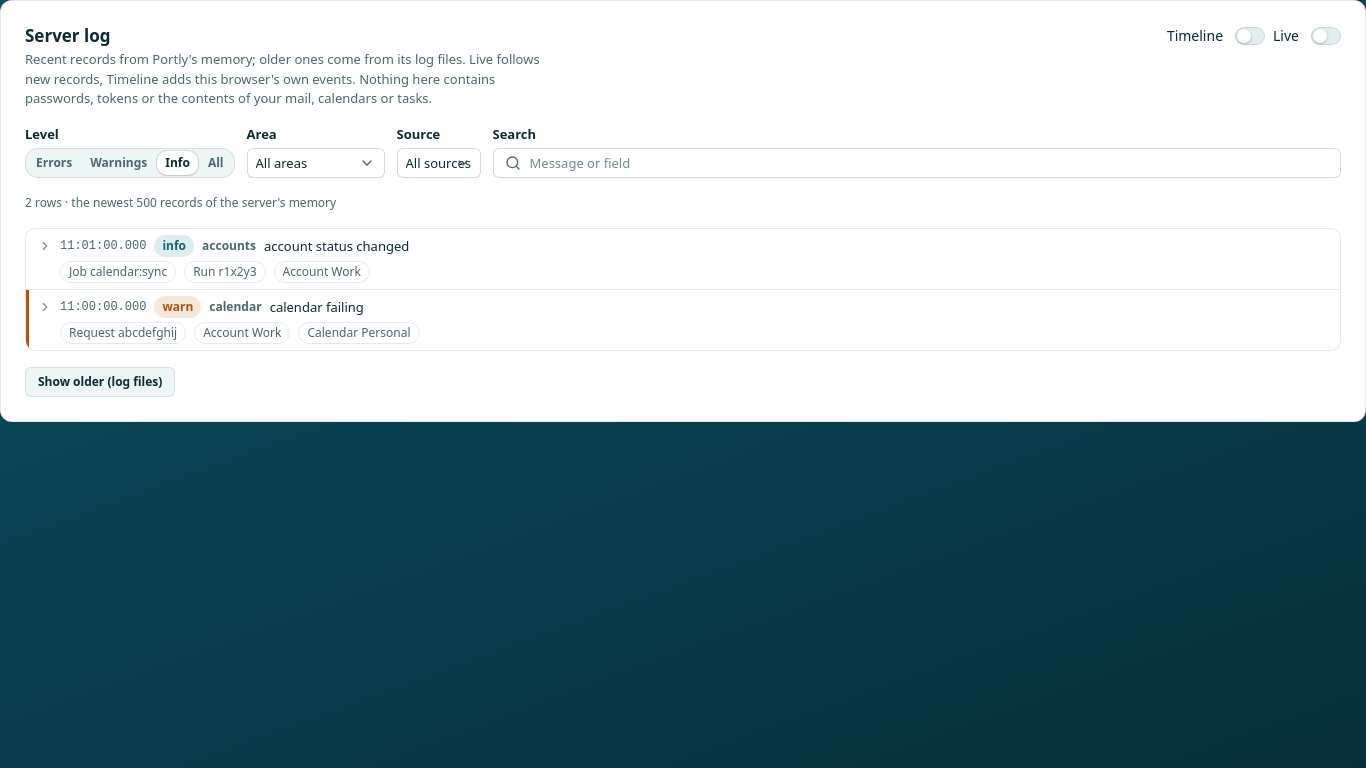
Test: ServerLogPanel › shows older records from the log files (not again what memory shows), until there are none
The image size is (1366, 768).
Expected: the text "calendar failing" is shown, [270,298,364,316]
Expected: the text "2 rows · the newest 500 records of the server's memory" is shown, [25,194,336,211]
What coordinates should you click on to do the following:
click the button "Show older (log files)"
I would click on:
 (100, 382)
Its box is [25,367,175,397].
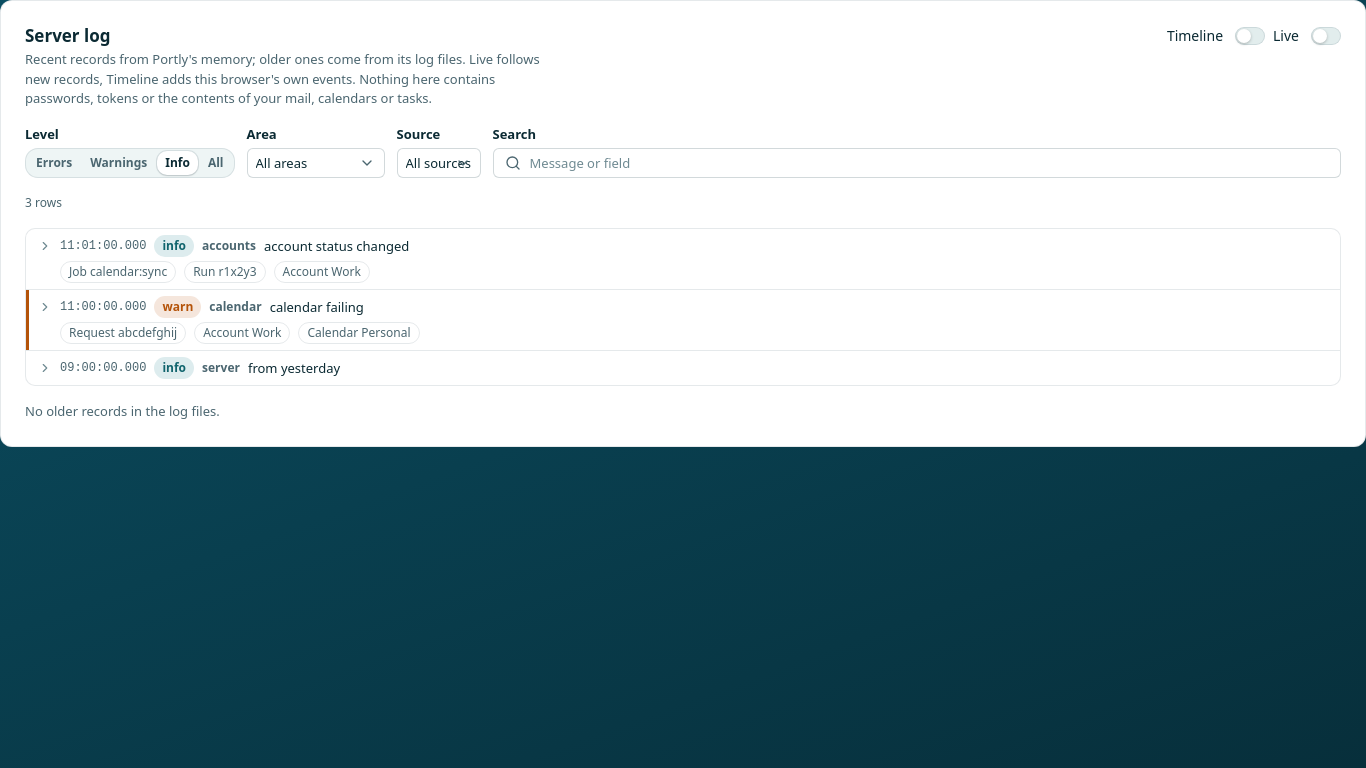
Result: the text "from yesterday" is shown at [248,358,340,376]
Result: the text "calendar failing" is shown once at [270,298,364,316]
Result: the text "3 rows" is shown at [25,194,62,211]
